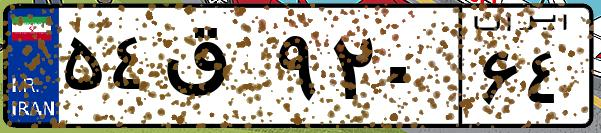0: (385, 28, 445, 110)
2: (330, 28, 385, 110)
4: (525, 38, 570, 115), (110, 28, 158, 98)
5: (57, 26, 110, 100)
6: (475, 38, 525, 113)
9: (270, 28, 330, 110)
ق: (158, 20, 270, 120)
